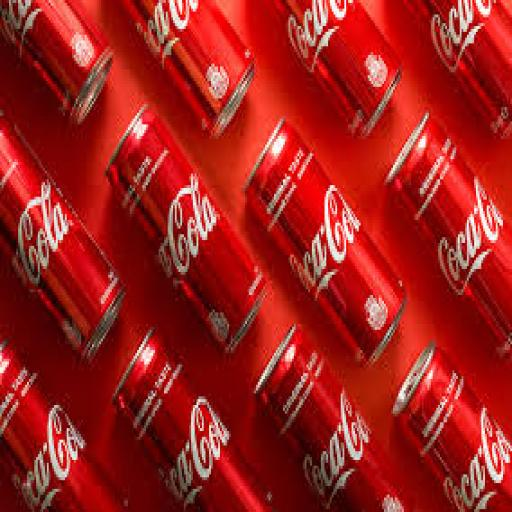Coca: (106, 109, 271, 356), (244, 122, 412, 363), (383, 106, 511, 360), (0, 101, 126, 350), (114, 333, 278, 512), (253, 336, 408, 512), (391, 347, 512, 512), (114, 0, 256, 140), (0, 332, 119, 499), (269, 1, 402, 140), (408, 0, 512, 140), (0, 2, 114, 126)
